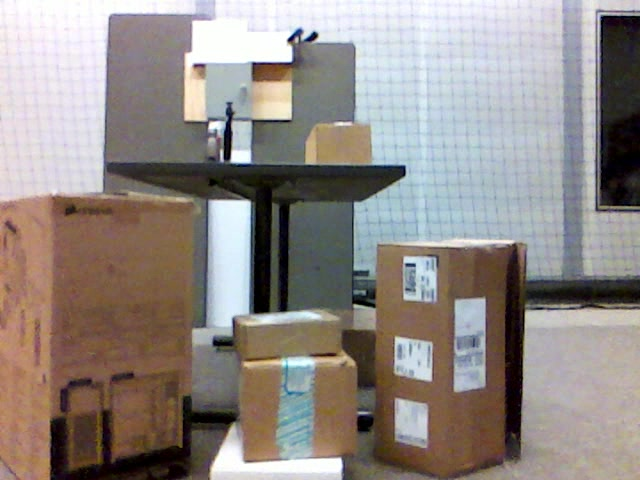box: (1, 195, 194, 474), (376, 240, 529, 474), (238, 352, 354, 460), (233, 310, 338, 359), (304, 123, 370, 164)
